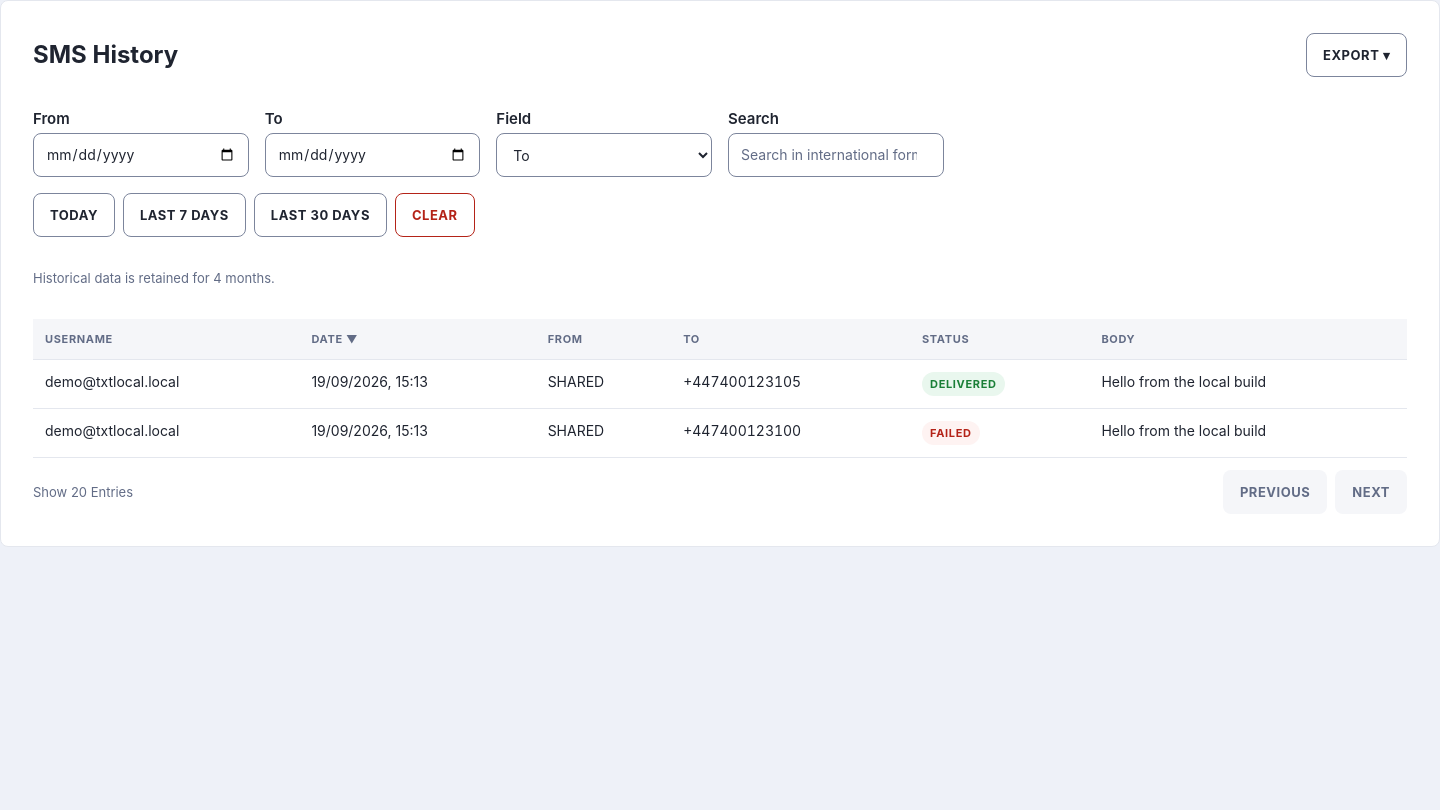
Test: HistoryScreen › opens a row with its parts, price and failure reason
The image size is (1440, 810).
Click the button with aria-label "Open message to +447400123100": (1184, 431) 1101,421 -> 1266,441
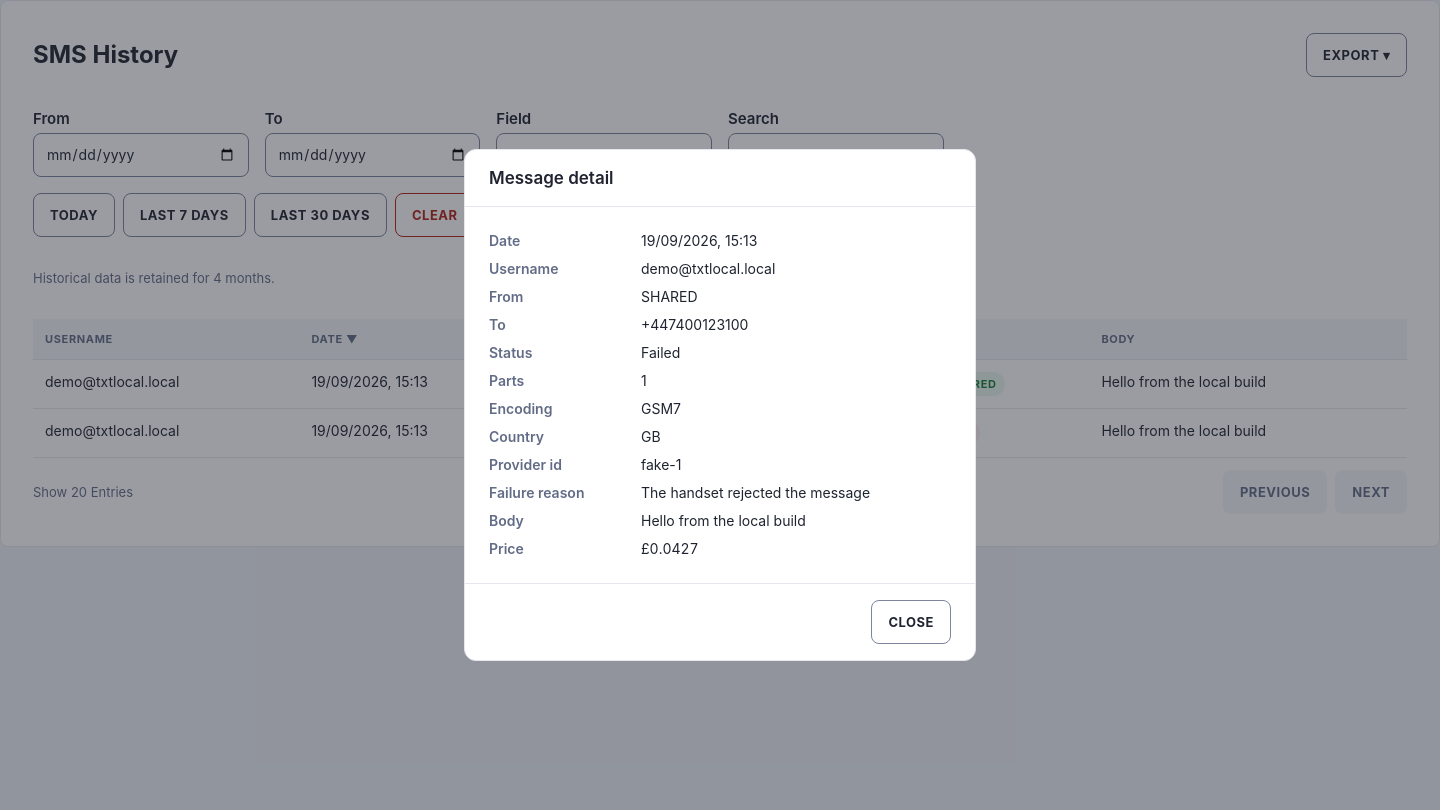
Check: the text "The handset rejected the message" is shown, box 641,484 -> 870,501
Check: the text "£0.0427" is shown, box 641,540 -> 699,557
Check: the text "fake-1" is shown, box 641,456 -> 682,473
